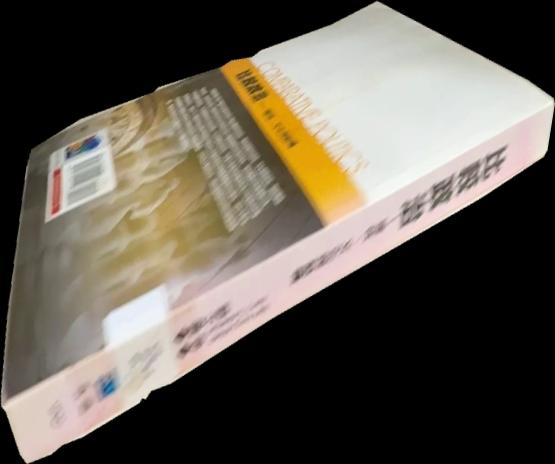flat: (1, 1, 555, 464)
